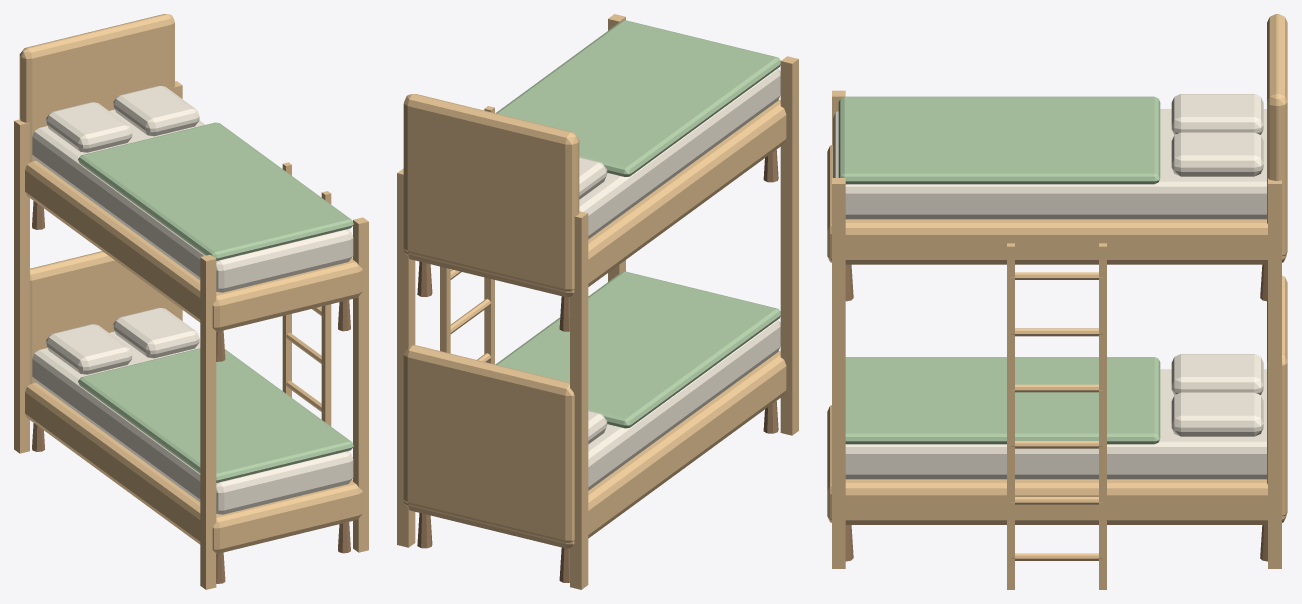
The model's file is cozy-home-interiors-bunk-bed-d0198955.glb.
The picture shows the model from 3 angles, left to right: view 1: azimuth 30°, elevation 25°; view 2: azimuth 150°, elevation 25°; view 3: azimuth 270°, elevation 25°; orthographic projection. The views are drawn at different scales.
Parts seen in each view (by area): view 1: bunk-bed; view 2: bunk-bed; view 3: bunk-bed.
Boxes of the visible parts, x1,y1,x2,y2 form: bunk-bed: [14, 14, 368, 589]; bunk-bed: [397, 14, 798, 589]; bunk-bed: [827, 14, 1287, 589].
Bounding box in the file's own units: 1.18 × 2.25 × 2.
